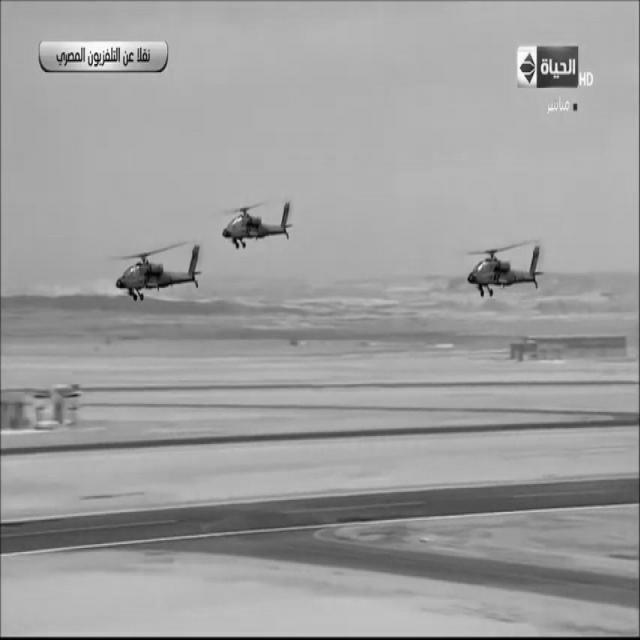helikopter: (456, 233, 558, 316), (108, 232, 204, 310), (216, 184, 296, 266)
